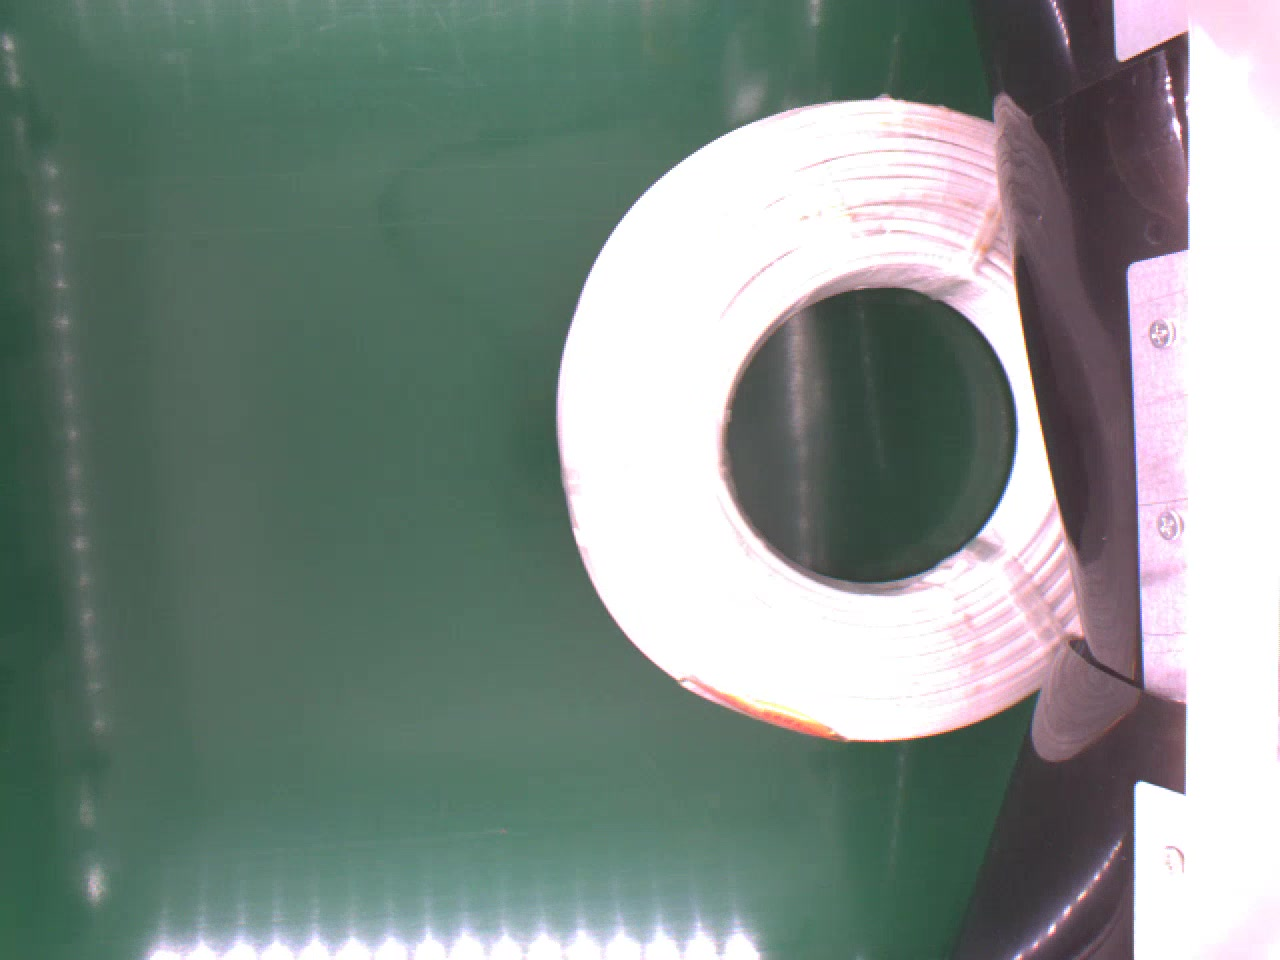white: (557, 99, 1096, 741)
